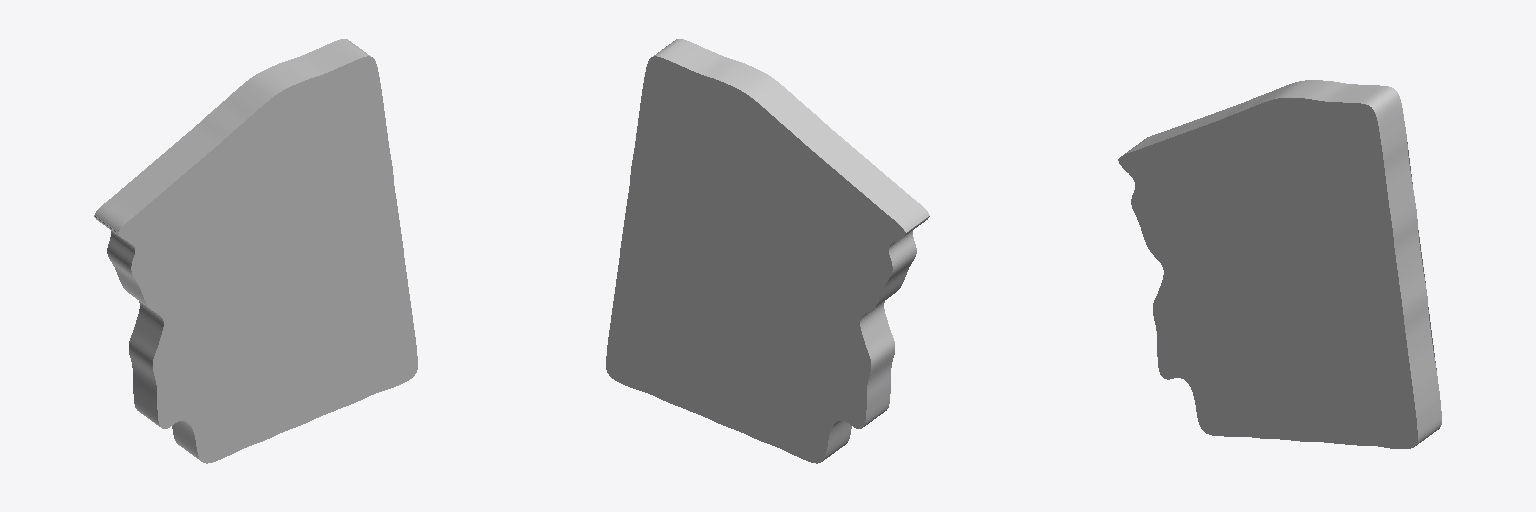
3 renders of one model, left to right at view 1: azimuth 30°, elevation 25°; view 2: azimuth 150°, elevation 25°; view 3: azimuth 330°, elevation 25°, orthographic.
Parts seen in each view (by area): view 1: 平面; view 2: 平面; view 3: 平面.
Boxes of the visible parts, x1,y1,x2,y2 form: 平面: [94, 39, 417, 463]; 平面: [606, 39, 929, 463]; 平面: [1118, 80, 1441, 448].
Bounding box in the file's own units: 1.44 × 1.69 × 0.2.